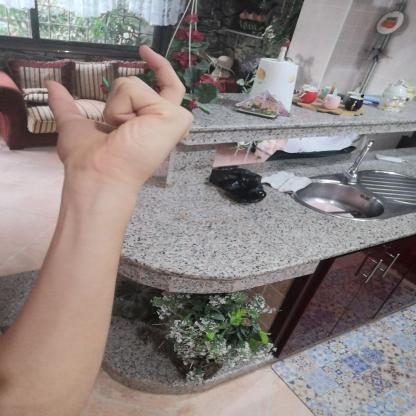NOON: (29, 32, 208, 204)
